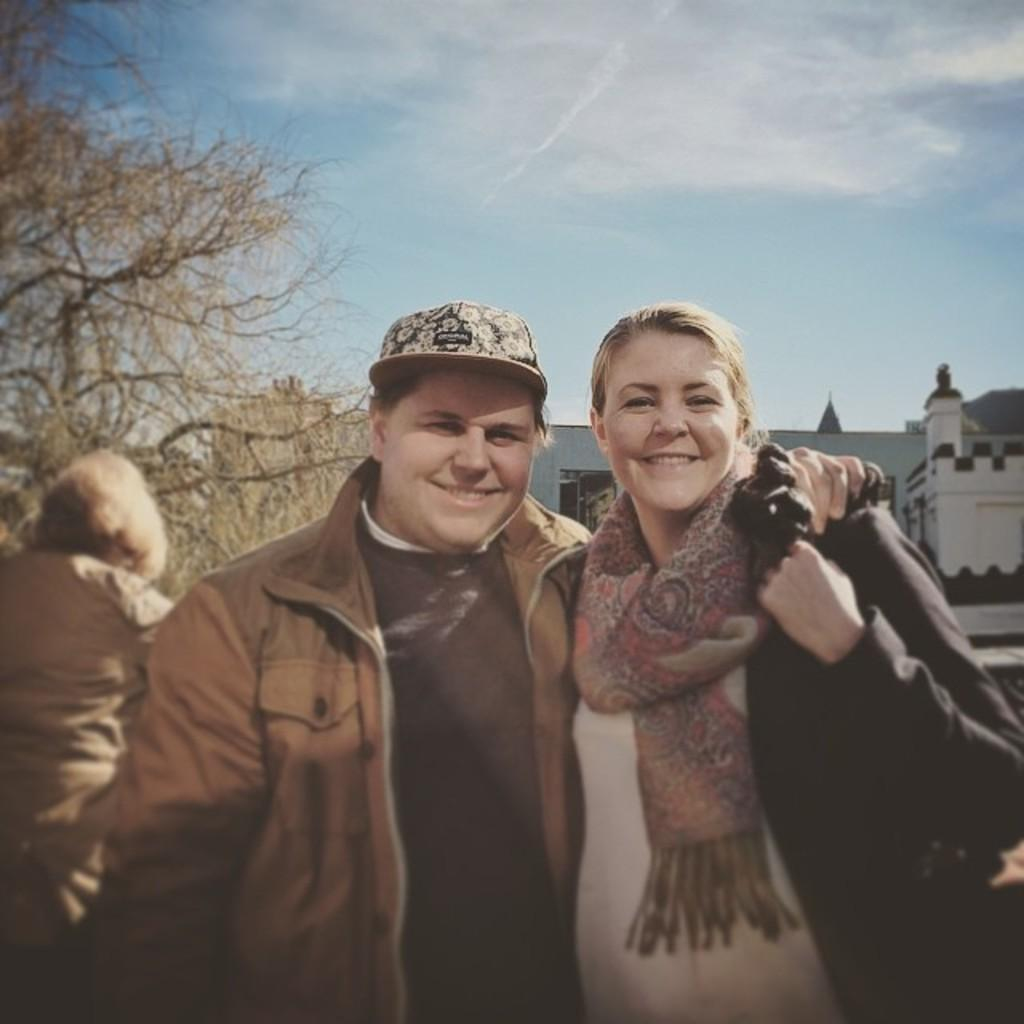Hat: (368, 294, 544, 403)
